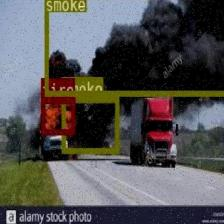smoke: (43, 0, 224, 94), (61, 95, 118, 153)
